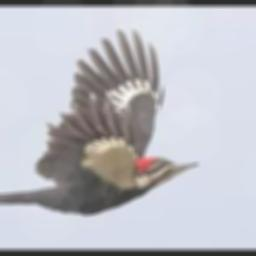Woodpecker: (0, 29, 200, 213)
